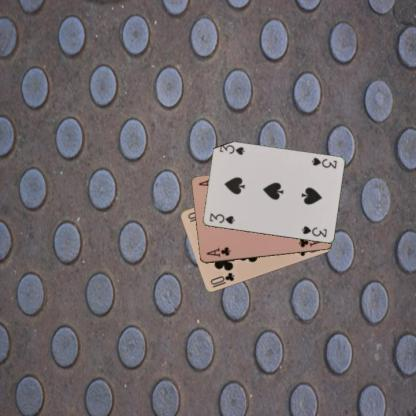10c: (208, 270, 236, 286)
3s: (308, 155, 338, 170), (207, 211, 236, 225)
Ac: (204, 244, 232, 258)
